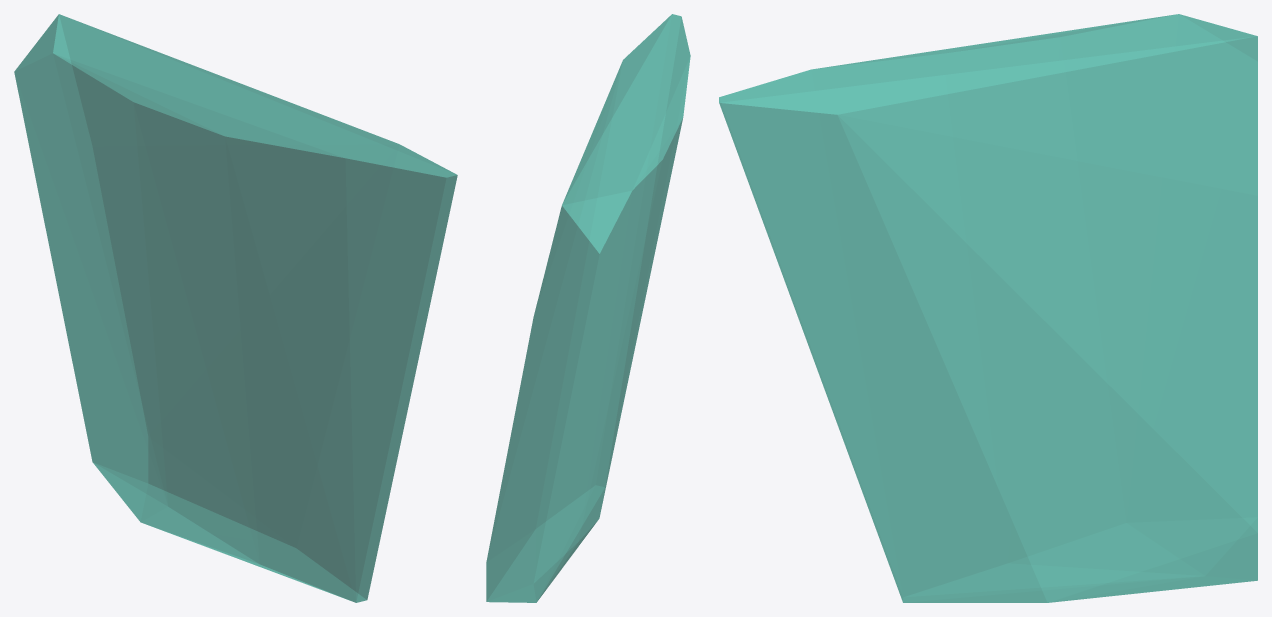
3 renders of one model, left to right at view 1: azimuth 30°, elevation 25°; view 2: azimuth 150°, elevation 25°; view 3: azimuth 270°, elevation 25°, orthographic. The views are drawn at different scales.
Parts seen in each view (by area): view 1: Shape_IndexedFaceSet.016_Shape_IndexedFaceSet.8988; view 2: Shape_IndexedFaceSet.016_Shape_IndexedFaceSet.8988; view 3: Shape_IndexedFaceSet.016_Shape_IndexedFaceSet.8988.
Boxes of the visible parts, left/top/right/bottom form: Shape_IndexedFaceSet.016_Shape_IndexedFaceSet.8988: left=14, top=14, right=457, bottom=602; Shape_IndexedFaceSet.016_Shape_IndexedFaceSet.8988: left=486, top=14, right=690, bottom=602; Shape_IndexedFaceSet.016_Shape_IndexedFaceSet.8988: left=719, top=14, right=1257, bottom=602.
Bounding box in the file's own units: 0.0996 × 0.2676 × 0.2552.
